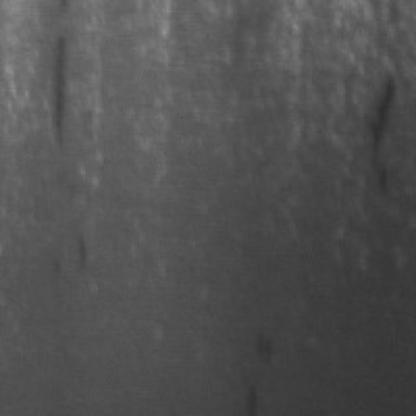inclusion: (343, 66, 410, 220), (39, 19, 77, 152), (50, 218, 87, 279)
